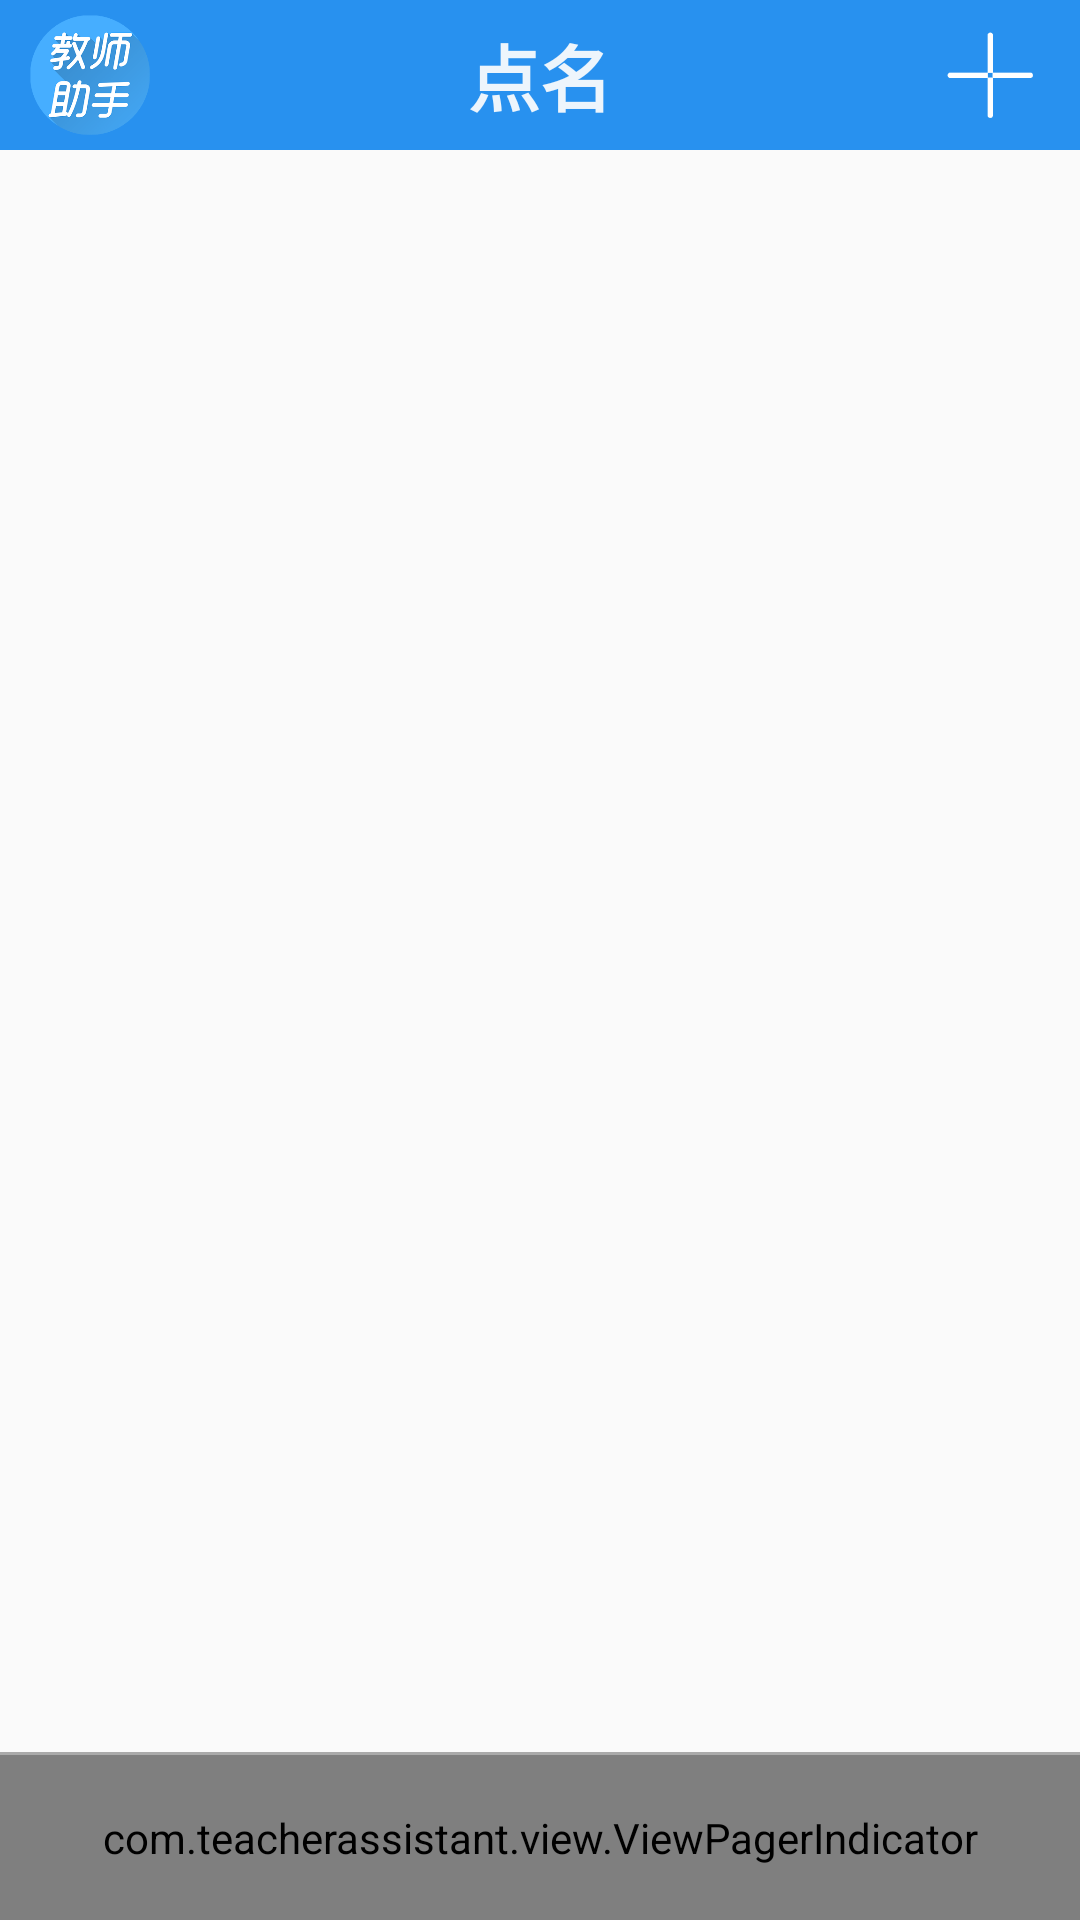

Named icons in this screenshot (1080×1920) and their bounding boxes, bbox=[x1, y1, x2, y2]:
add: bbox=[947, 32, 1033, 118]
